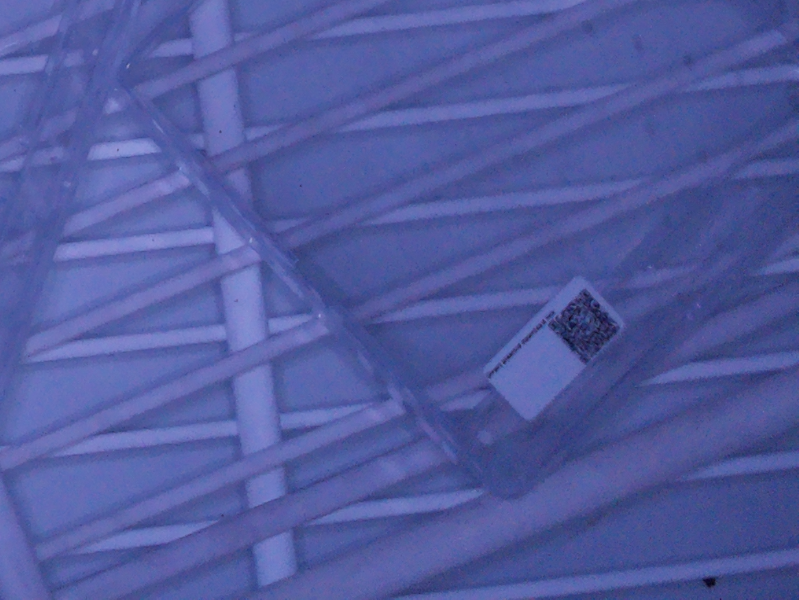plate: (100, 1, 799, 502), (1, 1, 141, 407)
